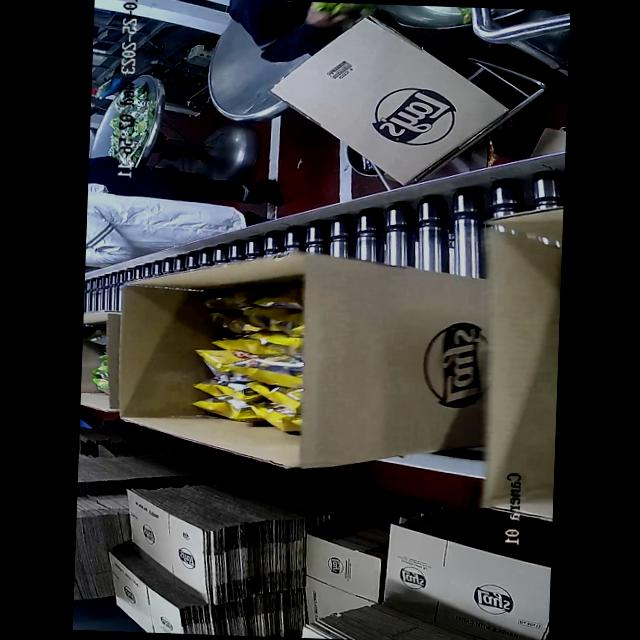salted: (187, 281, 305, 434)
